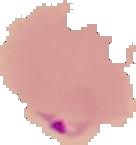parasitized: (32, 78, 98, 144)
